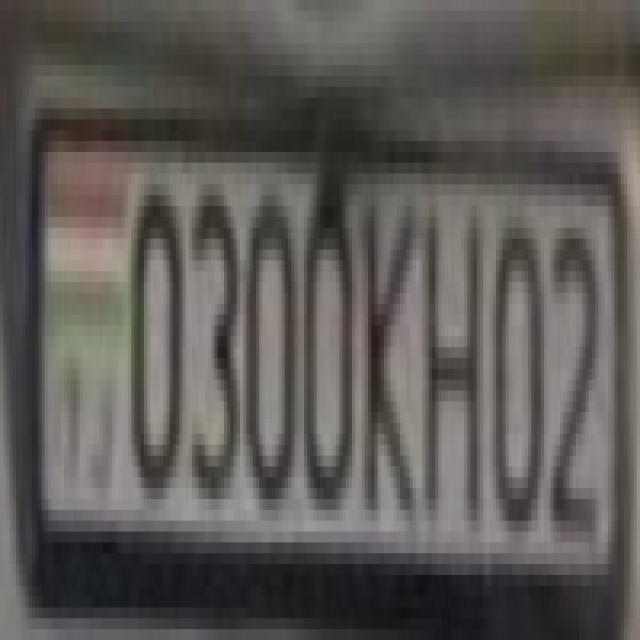0: (119, 152, 180, 499), (294, 173, 356, 500), (483, 206, 544, 521), (234, 173, 292, 500)
2: (534, 195, 608, 521)
3: (182, 163, 237, 488)
H: (410, 174, 490, 520)
K: (349, 163, 422, 510)
